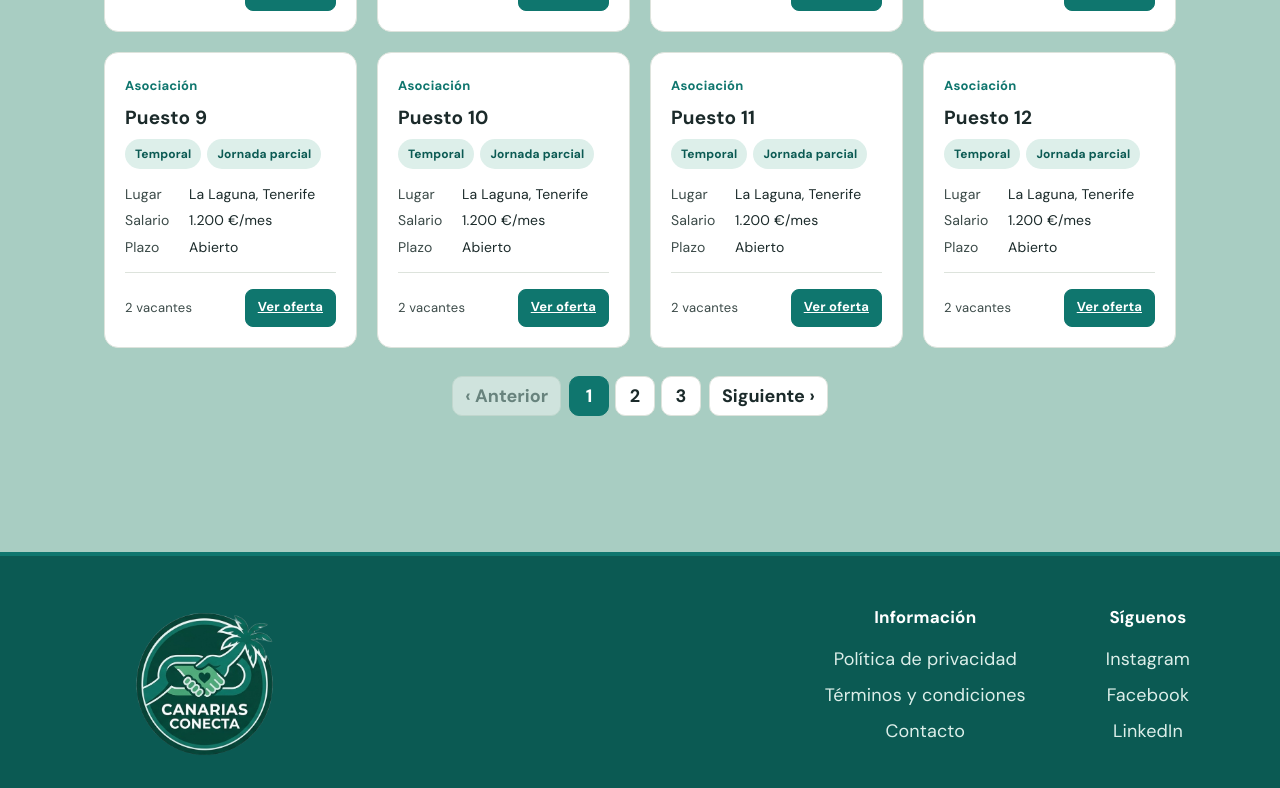
Test: Empleo (voluntario): paginacion del catalogo › al cambiar un filtro vuelve a la primera pagina
(page scrolled)
Step 1. Click the button named "Página 2" → x=635, y=396, box [615,376,655,416]
(page scrolled)
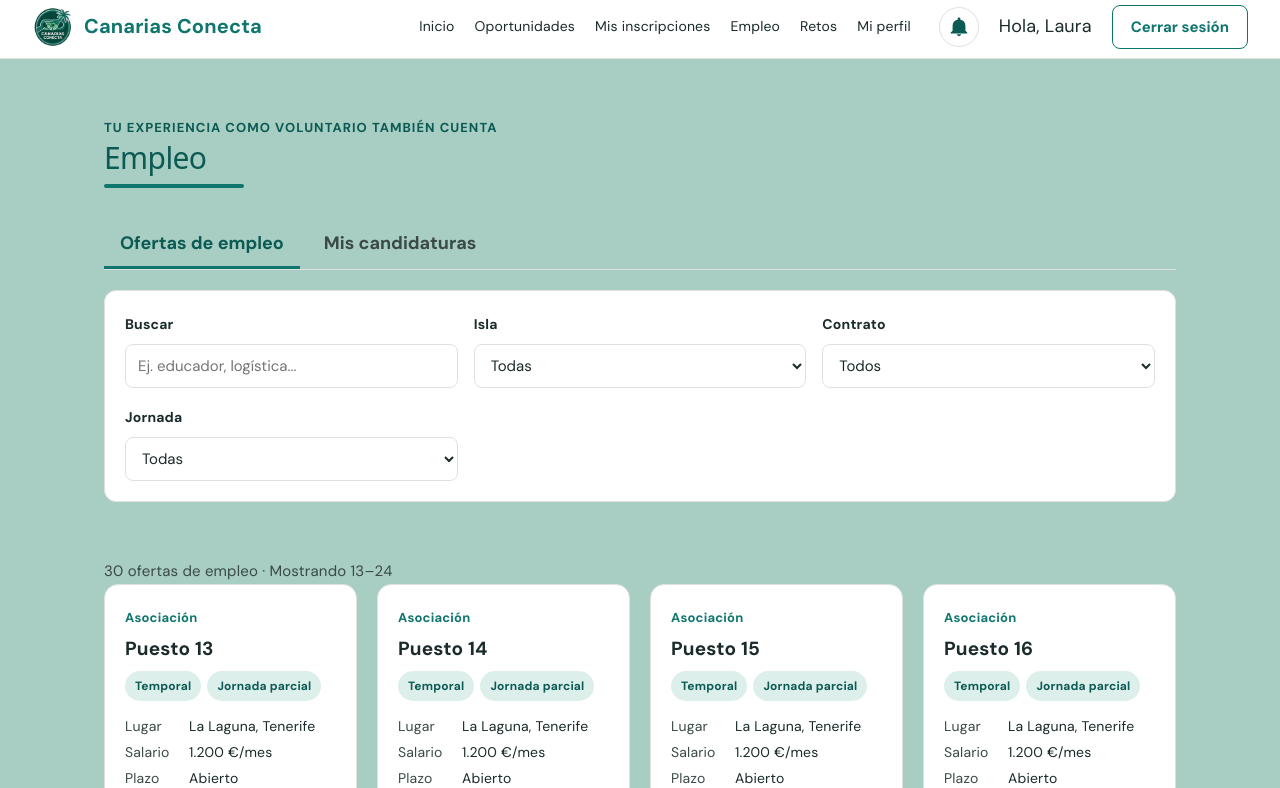
Expected: the heading "Puesto 13" is shown, [125,636,214,661]
Step 2. Select "Tenerife" in the dropdown labelled "Isla" → x=640, y=366, box [474,344,806,388]
(page scrolled)
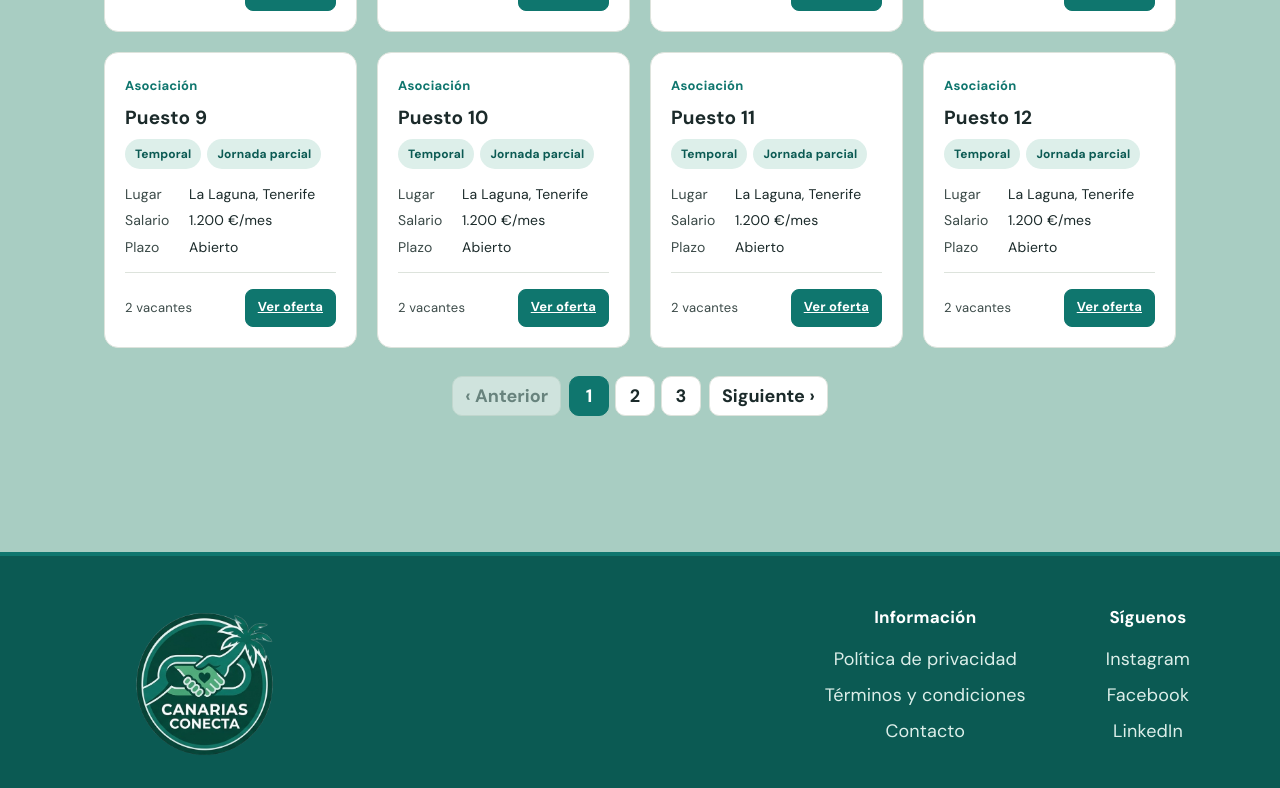
Expected: the button named "Página 1" is marked as current, [569,376,609,416]
